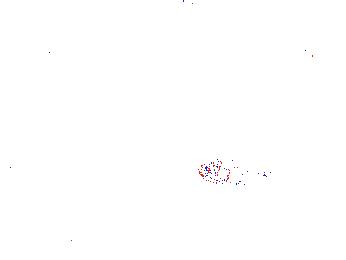X-ray fish: (198, 156, 264, 186)
glassfish: (293, 33, 346, 77)
